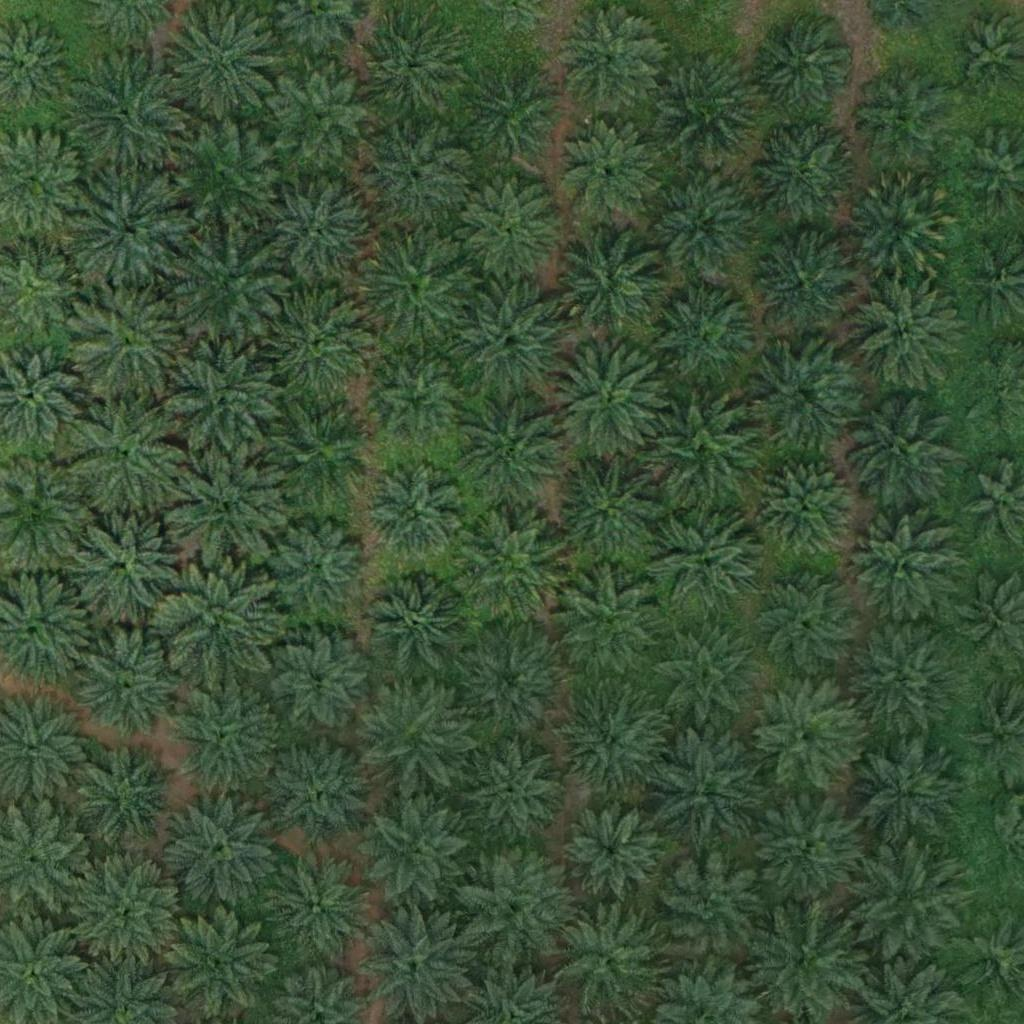Kelapa_Sawit: (164, 115, 277, 229), (70, 51, 183, 165), (171, 225, 284, 339), (456, 391, 569, 505), (554, 567, 667, 681), (749, 793, 862, 907), (746, 903, 859, 1017), (647, 622, 760, 736), (649, 732, 762, 846), (557, 687, 670, 801), (843, 171, 956, 284), (746, 12, 859, 125), (70, 173, 183, 286), (71, 286, 184, 399), (166, 345, 279, 458), (168, 451, 281, 564), (162, 566, 275, 679), (360, 224, 473, 337), (457, 284, 570, 397), (551, 345, 664, 458), (553, 454, 666, 567), (847, 275, 960, 388), (842, 392, 955, 505), (846, 514, 959, 627), (653, 853, 766, 966), (361, 797, 474, 910), (361, 910, 474, 1023), (259, 846, 372, 959), (75, 857, 188, 970), (259, 176, 371, 290), (267, 284, 379, 398), (457, 516, 569, 630), (850, 843, 962, 957), (747, 120, 859, 233), (648, 49, 760, 162), (646, 171, 758, 284), (358, 121, 470, 234), (166, 1, 278, 114), (73, 398, 185, 511), (71, 504, 183, 617), (264, 399, 376, 512), (453, 625, 565, 738), (554, 225, 666, 338), (644, 278, 756, 391), (643, 394, 755, 507), (651, 508, 763, 621), (746, 341, 858, 454), (750, 565, 862, 678), (849, 622, 961, 735), (848, 737, 960, 850), (748, 680, 860, 793), (553, 904, 665, 1017), (453, 850, 565, 963), (356, 679, 468, 792), (168, 683, 280, 796), (165, 794, 277, 907), (170, 906, 282, 1019), (75, 628, 187, 741), (851, 68, 951, 169), (556, 7, 656, 108), (556, 118, 656, 219), (463, 63, 563, 164), (461, 179, 561, 280), (358, 19, 458, 120), (271, 66, 371, 167), (268, 516, 368, 617), (270, 635, 370, 736), (370, 577, 470, 678), (752, 233, 852, 334), (755, 456, 855, 557), (562, 801, 662, 902), (464, 742, 564, 843), (270, 739, 370, 840), (80, 745, 180, 846), (365, 464, 465, 564), (371, 361, 459, 449)
